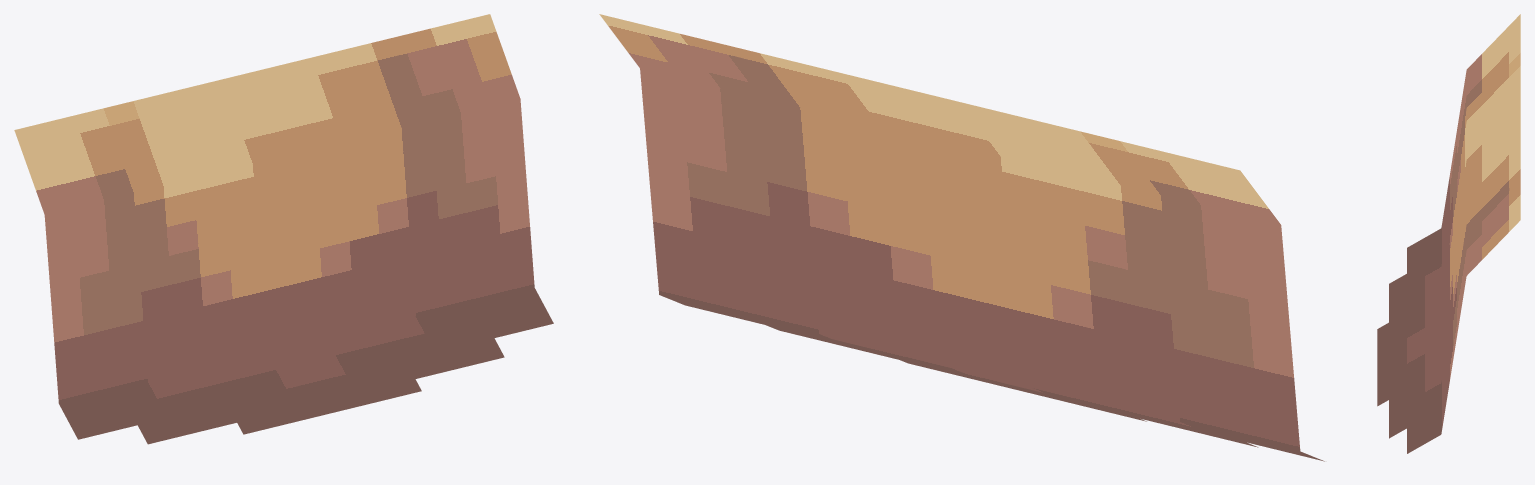
The picture shows the model from 3 angles, left to right: view 1: azimuth 30°, elevation 25°; view 2: azimuth 150°, elevation 25°; view 3: azimuth 270°, elevation 25°; orthographic projection. The views are drawn at different scales.
Size of the model in its own units: 1 by 0.5662 by 0.293.
Materials: 1 (1 with a texture image).
